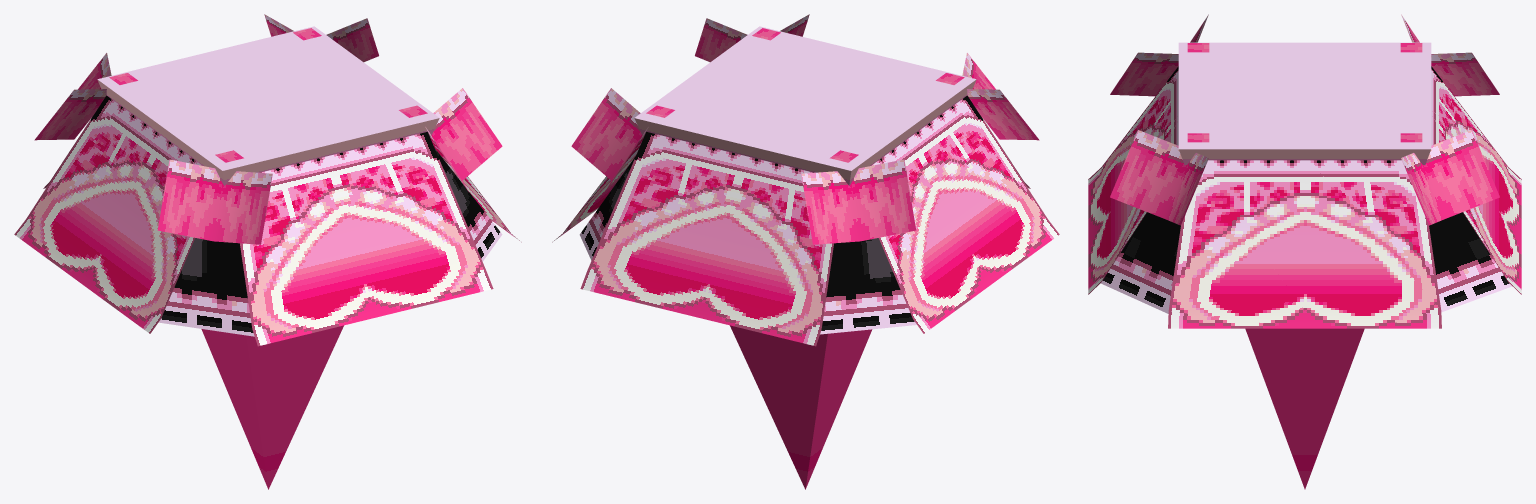
3 views of the same model, side by side, from view 1: azimuth 30°, elevation 25°; view 2: azimuth 150°, elevation 25°; view 3: azimuth 270°, elevation 25° (orthographic).
Parts seen in each view (by area): view 1: 3681kg_gl_ta2; view 2: 3681kg_gl_ta2; view 3: 3681kg_gl_ta2.
Part boxes in pixels (box(x1,y1,x2,y2)): 3681kg_gl_ta2: box(14, 14, 521, 489); 3681kg_gl_ta2: box(552, 14, 1059, 489); 3681kg_gl_ta2: box(1088, 14, 1521, 489).
Bounding box in the file's own units: 2 × 2.06 × 2.
1 material, 1 textured.
